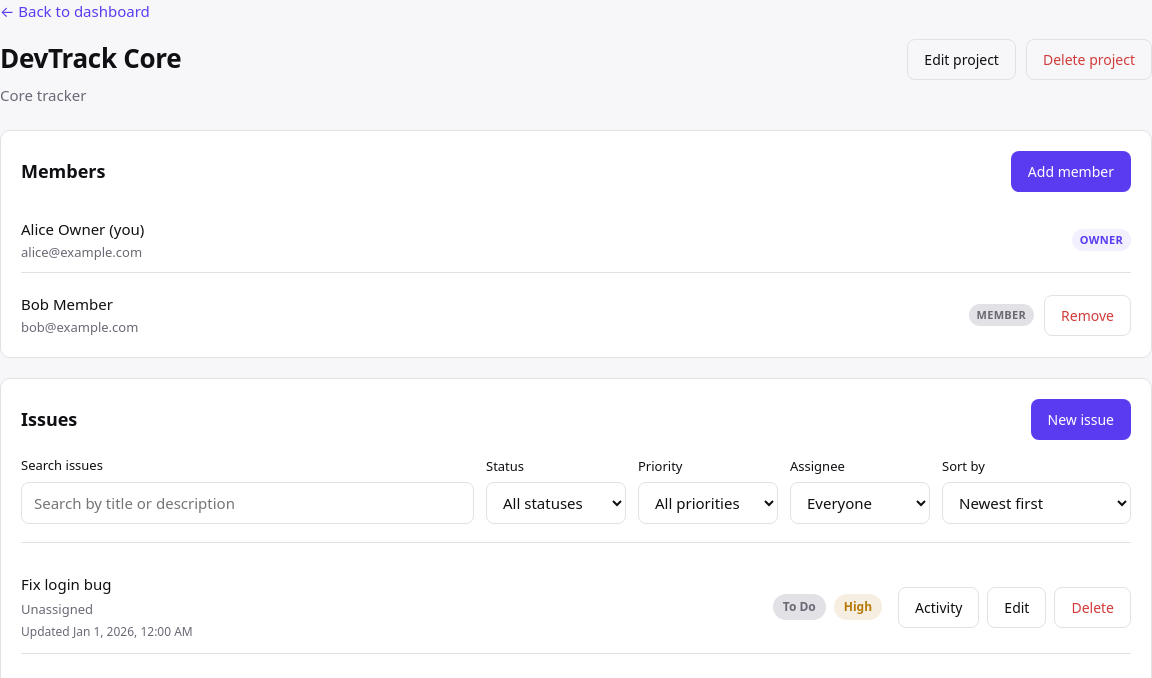
Scenario: ProjectDetailPage › filters issues by status
Expected: the text "Fix login bug" is shown, [21,574,111,594]
Select "Done" in the dropdown labelled "Status" at point(556, 503), box [486,482,626,524]
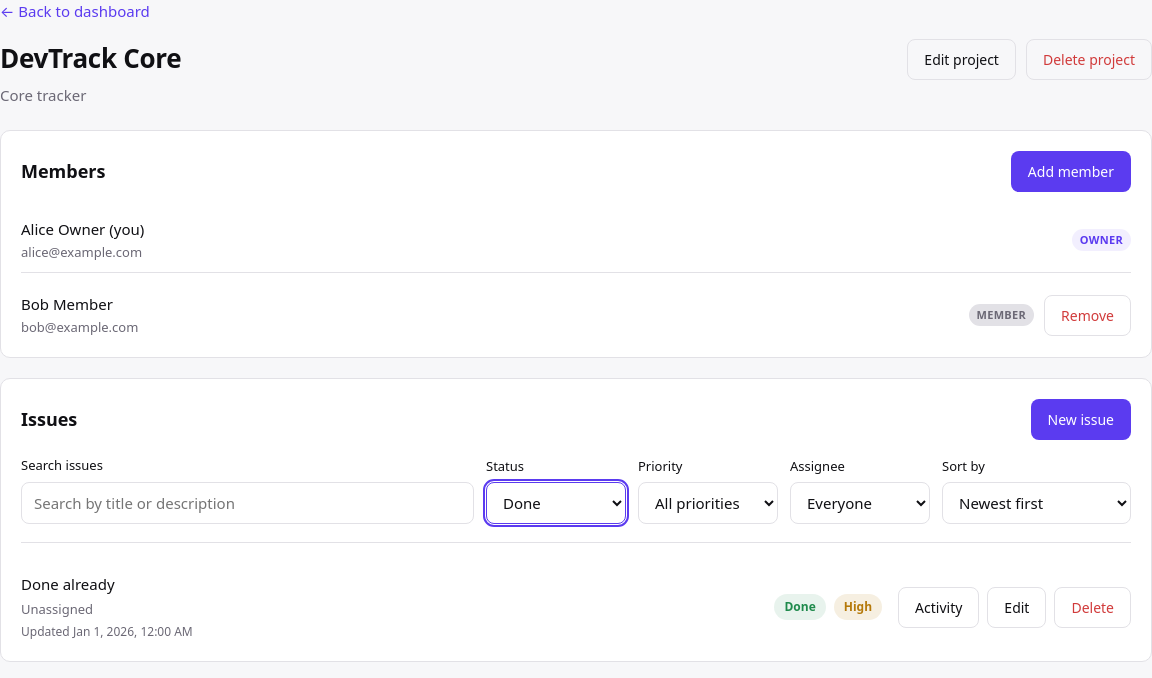
Expected: the text "Done already" is shown, [21,574,115,594]
Result: the text "Fix login bug" is gone
